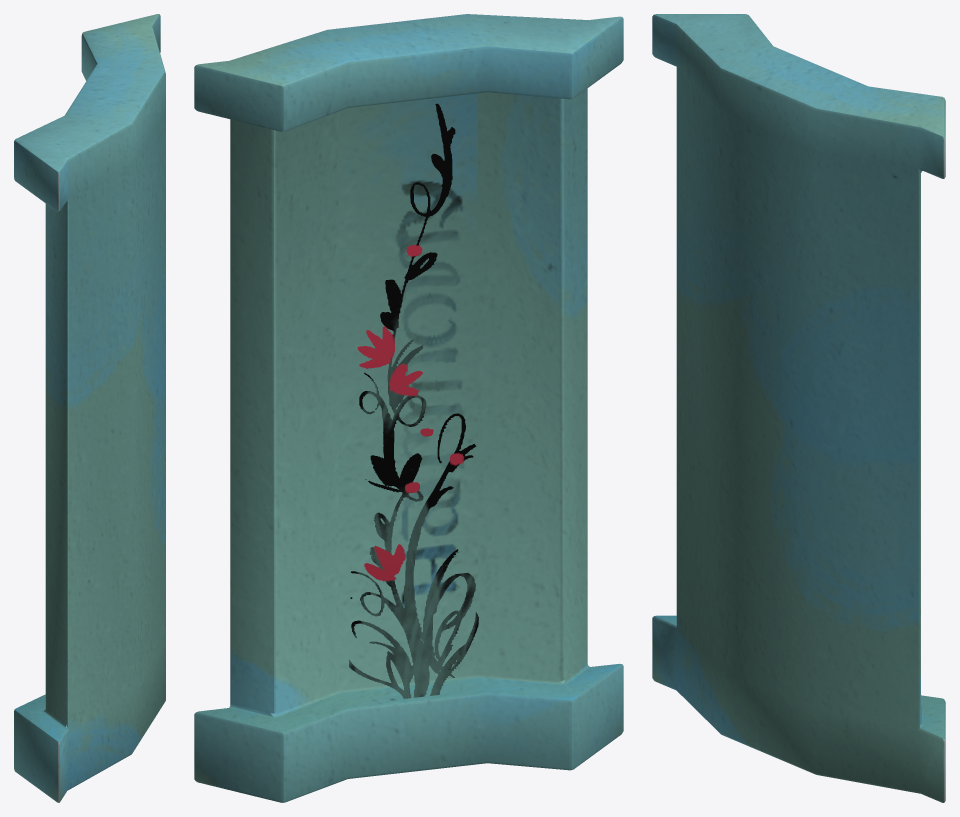
Rendered from TOMB_PILLAR_ANGLE_005.obj.
3 renders of one model, left to right at view 1: azimuth 30°, elevation 25°; view 2: azimuth 150°, elevation 25°; view 3: azimuth 270°, elevation 25°, orthographic. The views are drawn at different scales.
Parts seen in each view (by area): view 1: TOMB_PILLAR_ANGLE_005; view 2: TOMB_PILLAR_ANGLE_005; view 3: TOMB_PILLAR_ANGLE_005.
Boxes of the visible parts, <box> form: TOMB_PILLAR_ANGLE_005: <box>14,14,165,802</box>; TOMB_PILLAR_ANGLE_005: <box>194,14,623,802</box>; TOMB_PILLAR_ANGLE_005: <box>652,14,945,802</box>.
Bounding box in the file's own units: 1.19 × 3 × 1.19.
Materials: 4 (4 with a texture image).
